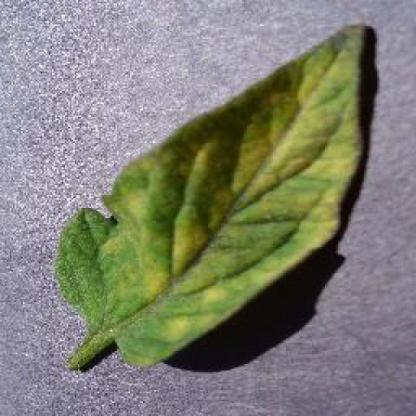Strawberry_Anthracnose_Fruit_Rot: (233, 99, 319, 177), (170, 217, 212, 277), (292, 192, 340, 236), (146, 310, 196, 344)
